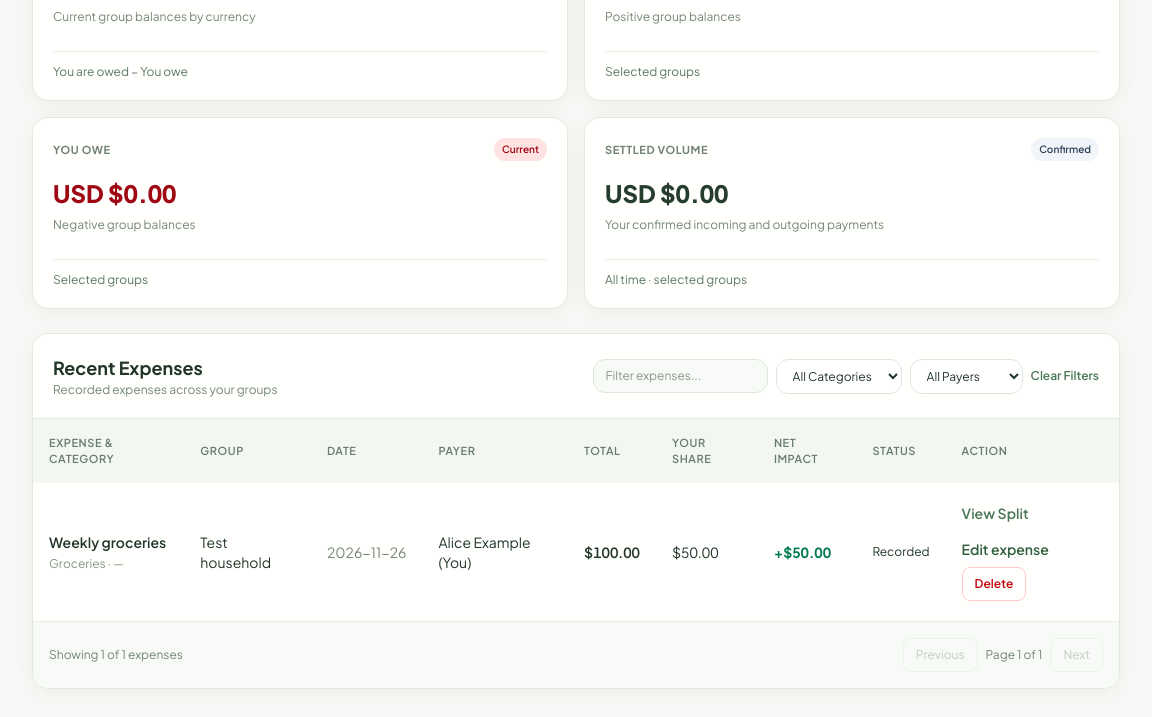
Test: Financial integration › loads real expenses and split details
The width and height of the screenshot is (1152, 717).
(page scrolled)
Expected: the text "Weekly groceries" is shown, [49,532,168,552]
Click the button "View Split": click(995, 513) [962,503,1029,523]
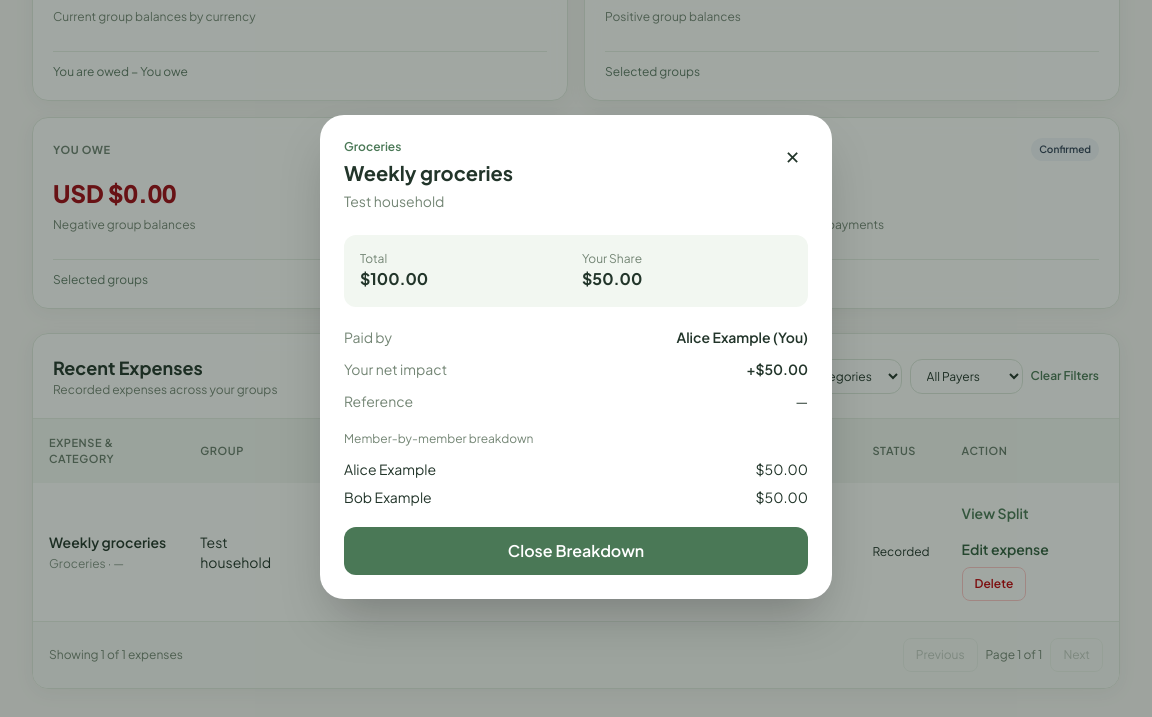
Now the text "Bob Example" is shown, box [344,487,432,507]
Click the button "Close Breakdown": click(576, 551) [344,527,808,575]
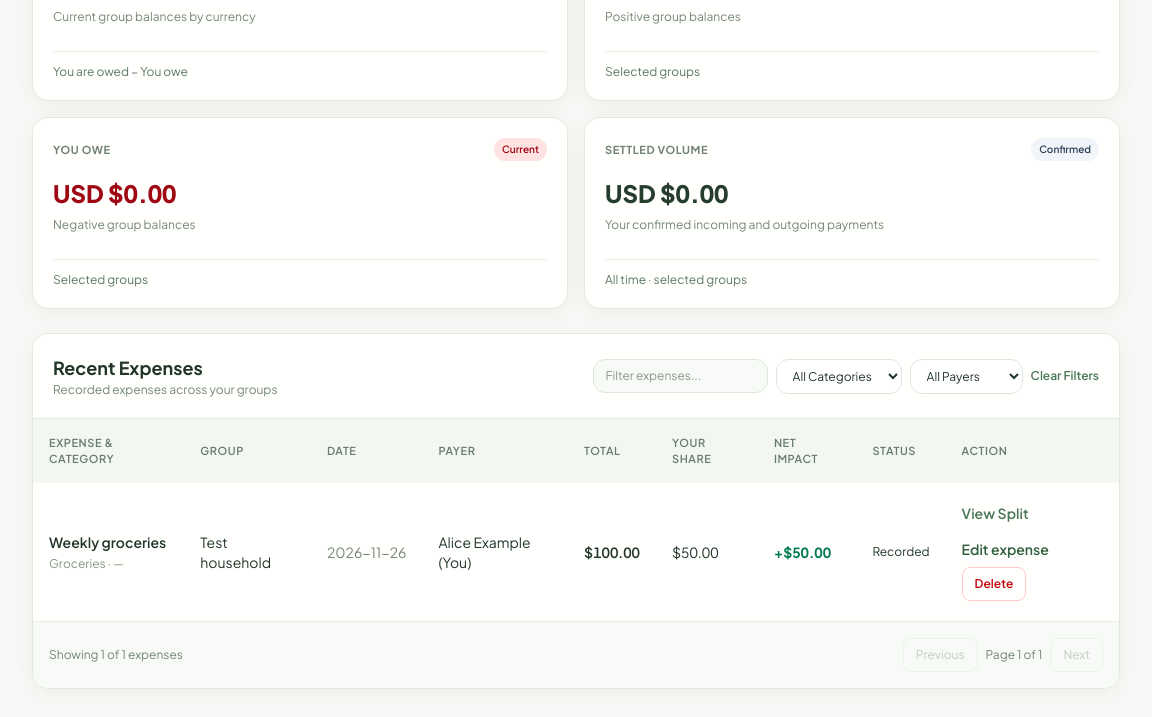
In the field labelled "Filter expenses...": (680, 376) [593,359,768,393], type "missing"
(page scrolled)
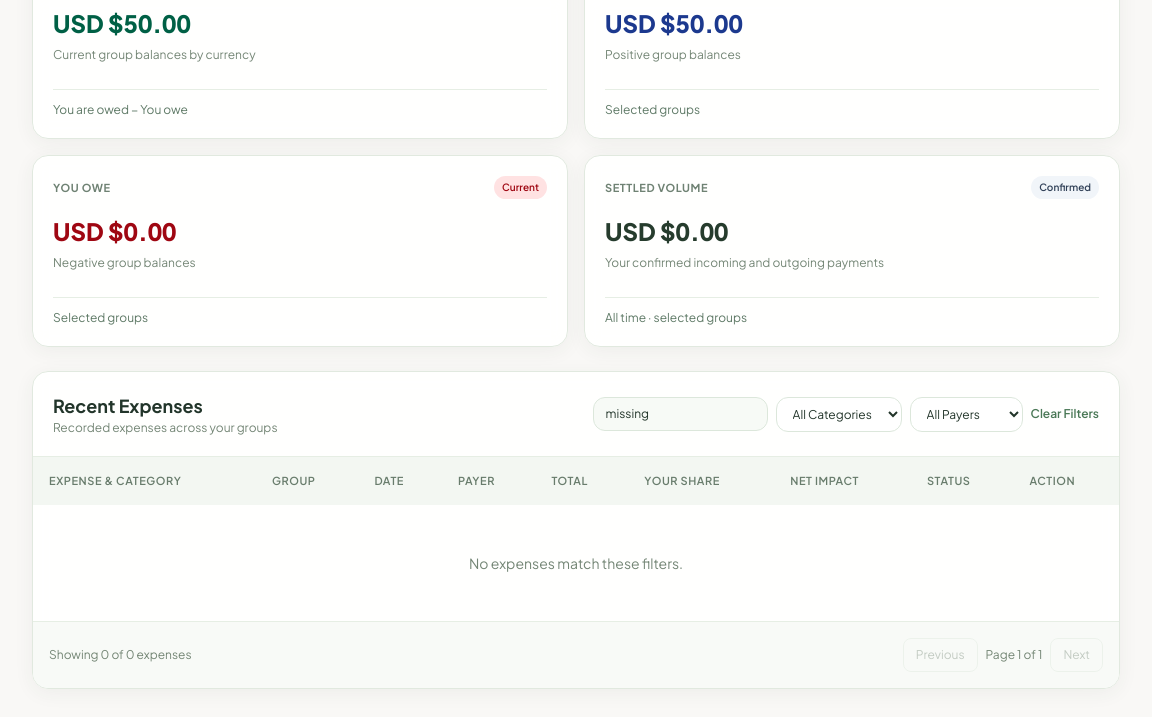
Now the text "Weekly groceries" is gone
